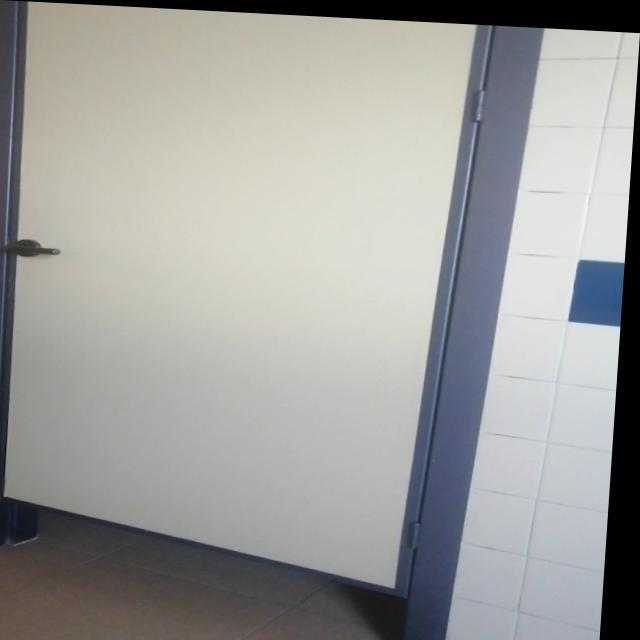door_handle: (3, 243, 67, 257)
